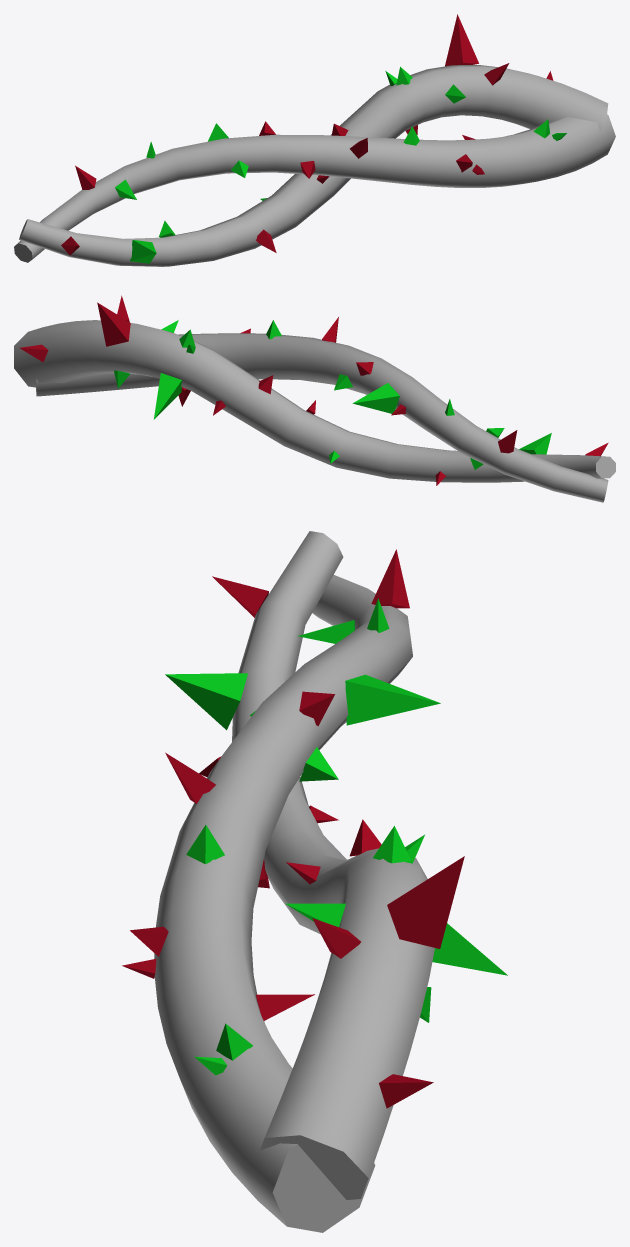
File: Root_Spike_Proto.fbx
The picture shows the model from 3 angles, top to bottom: view 1: azimuth 30°, elevation 25°; view 2: azimuth 150°, elevation 25°; view 3: azimuth 270°, elevation 25°; orthographic projection. The views are drawn at different scales.
Visible parts, largest first — view 1: polySurface52; view 2: polySurface52; view 3: polySurface52.
Part boxes in pixels (bbox=[...]): polySurface52: bbox=[14, 14, 615, 266]; polySurface52: bbox=[14, 295, 615, 502]; polySurface52: bbox=[122, 531, 507, 1232].
Bounding box in the file's own units: 3.5 × 0.8137 × 0.9958.
